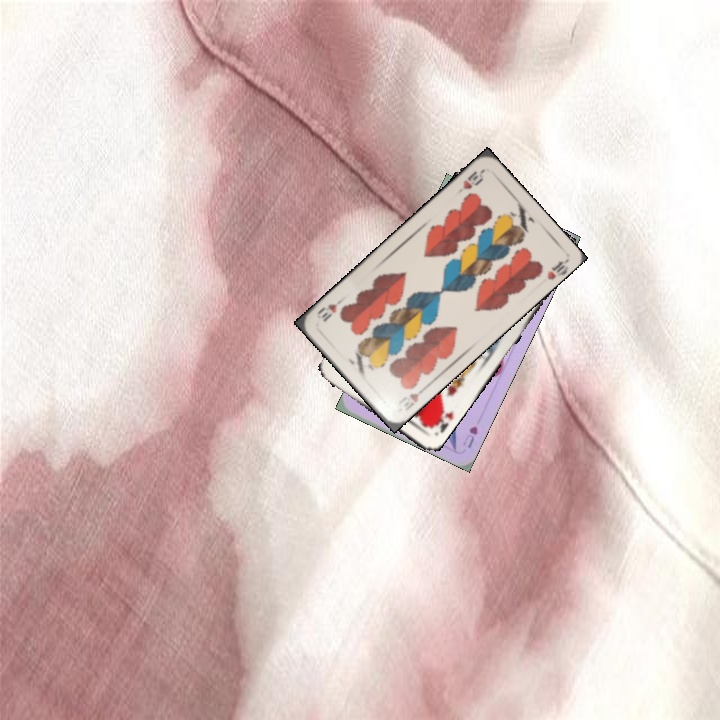H10: (394, 383, 428, 414), (452, 166, 486, 197)
HK: (425, 403, 456, 435)
HU: (458, 422, 480, 450)
